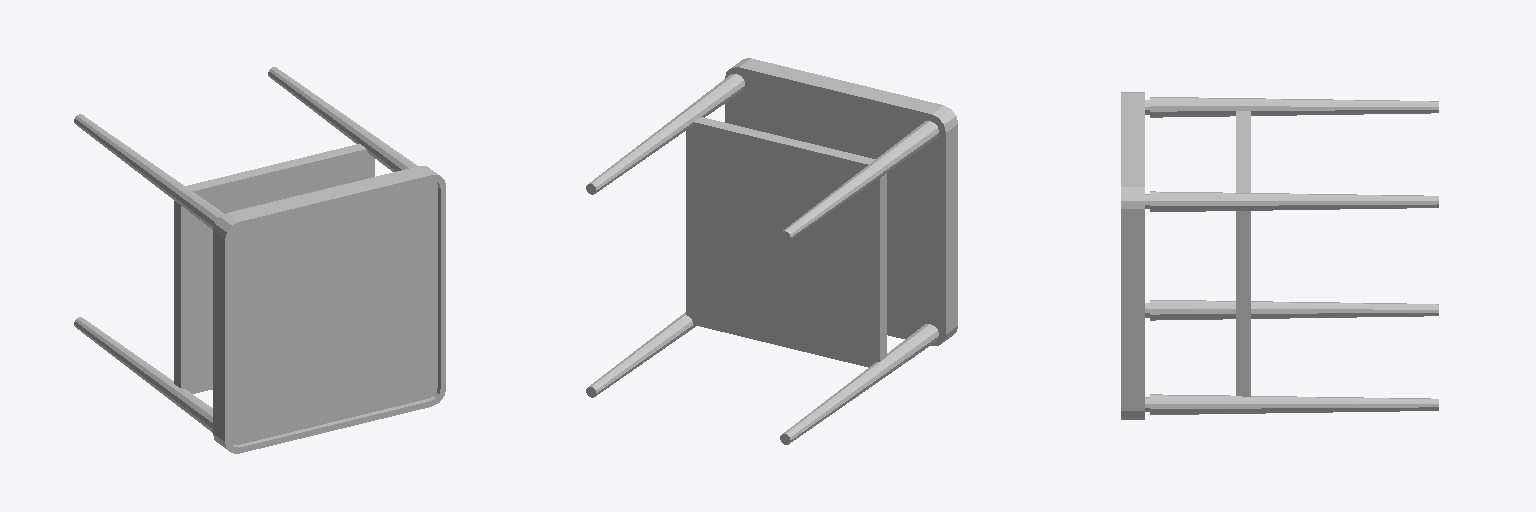
Rendered from side_table_square.obj.
The picture shows the model from 3 angles: view 1: azimuth 30°, elevation 25°; view 2: azimuth 150°, elevation 25°; view 3: azimuth 270°, elevation 25°; orthographic projection.
Visible parts, largest first — view 1: side_table_square; view 2: side_table_square; view 3: side_table_square.
Boxes of the visible parts, x1=… form: side_table_square: x1=74, y1=67, x2=445, y2=453; side_table_square: x1=586, y1=58, x2=957, y2=444; side_table_square: x1=1121, y1=92, x2=1438, y2=419.
Bounding box in the file's own units: 24.06 × 24.06 × 29.99.